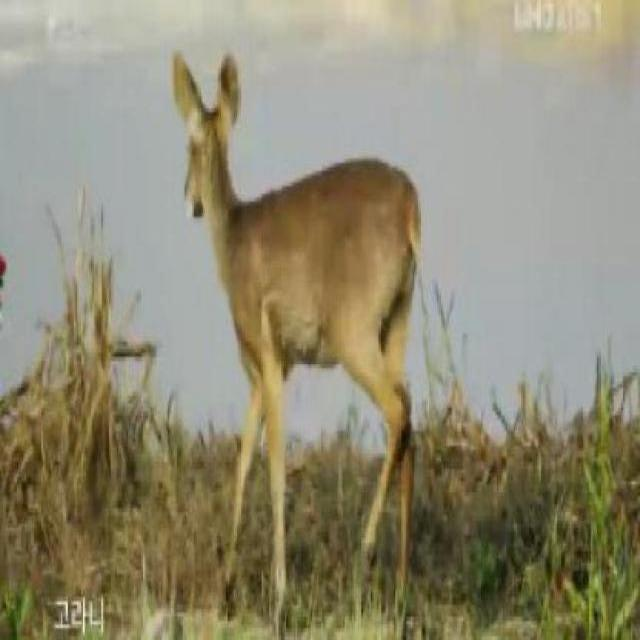deer: (163, 43, 440, 616)
